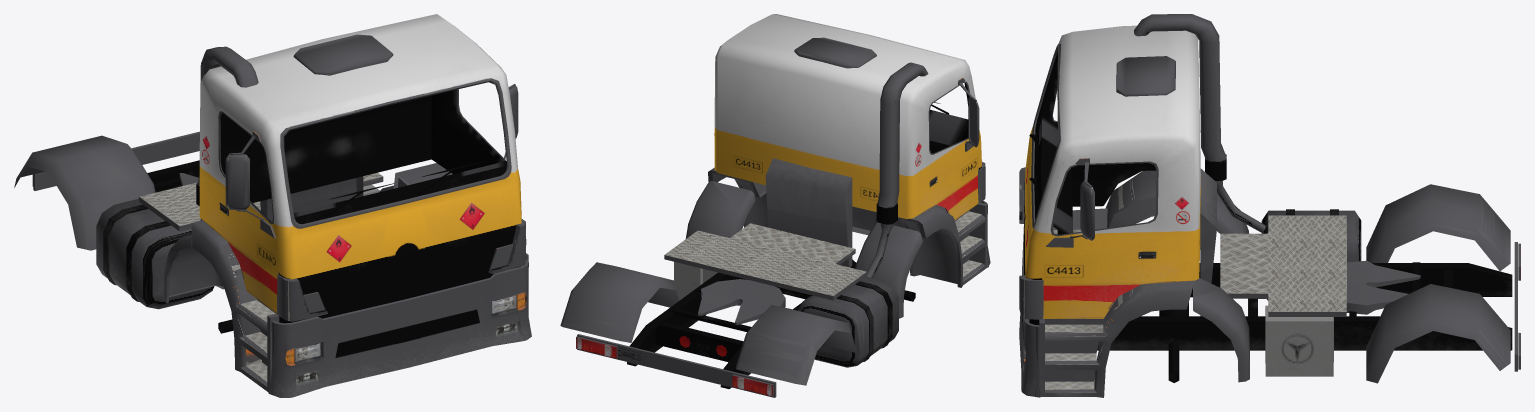
The model's file is Head Fuel Truck.fbx.
The picture shows the model from 3 angles, left to right: view 1: azimuth 30°, elevation 25°; view 2: azimuth 150°, elevation 25°; view 3: azimuth 270°, elevation 25°; orthographic projection. The views are drawn at different scales.
Visible parts, largest first — view 1: Head Fuel Truck; view 2: Head Fuel Truck; view 3: Head Fuel Truck.
Part boxes in pixels (left/top/right/bottom): Head Fuel Truck: left=14, top=14, right=531, bottom=397; Head Fuel Truck: left=560, top=14, right=990, bottom=397; Head Fuel Truck: left=1019, top=14, right=1520, bottom=397.
Size of the model in its own units: 271 by 249 by 409.
